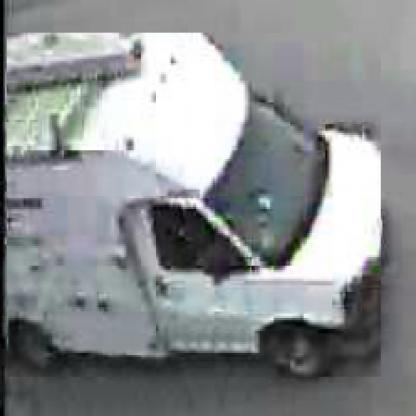truck: (8, 34, 383, 380)
